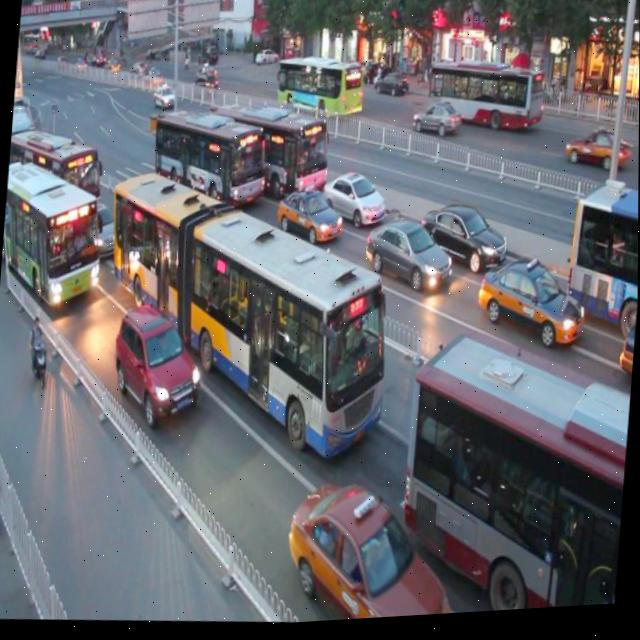car: (282, 474, 457, 627), (109, 305, 207, 433), (475, 250, 589, 360), (362, 209, 453, 300), (420, 195, 510, 277), (272, 178, 344, 250), (318, 161, 386, 234), (68, 203, 124, 267), (616, 317, 636, 399)
van: (92, 151, 402, 473), (395, 329, 635, 621), (0, 154, 108, 316), (147, 95, 270, 221), (208, 89, 333, 206), (563, 185, 639, 345), (5, 117, 104, 226)
